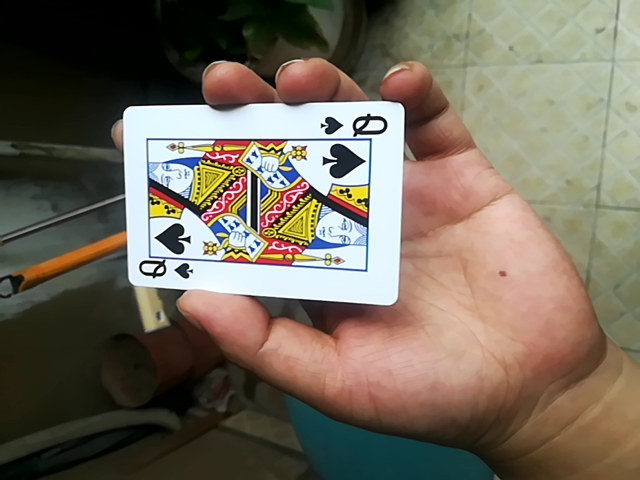ht q: (119, 103, 407, 307)
